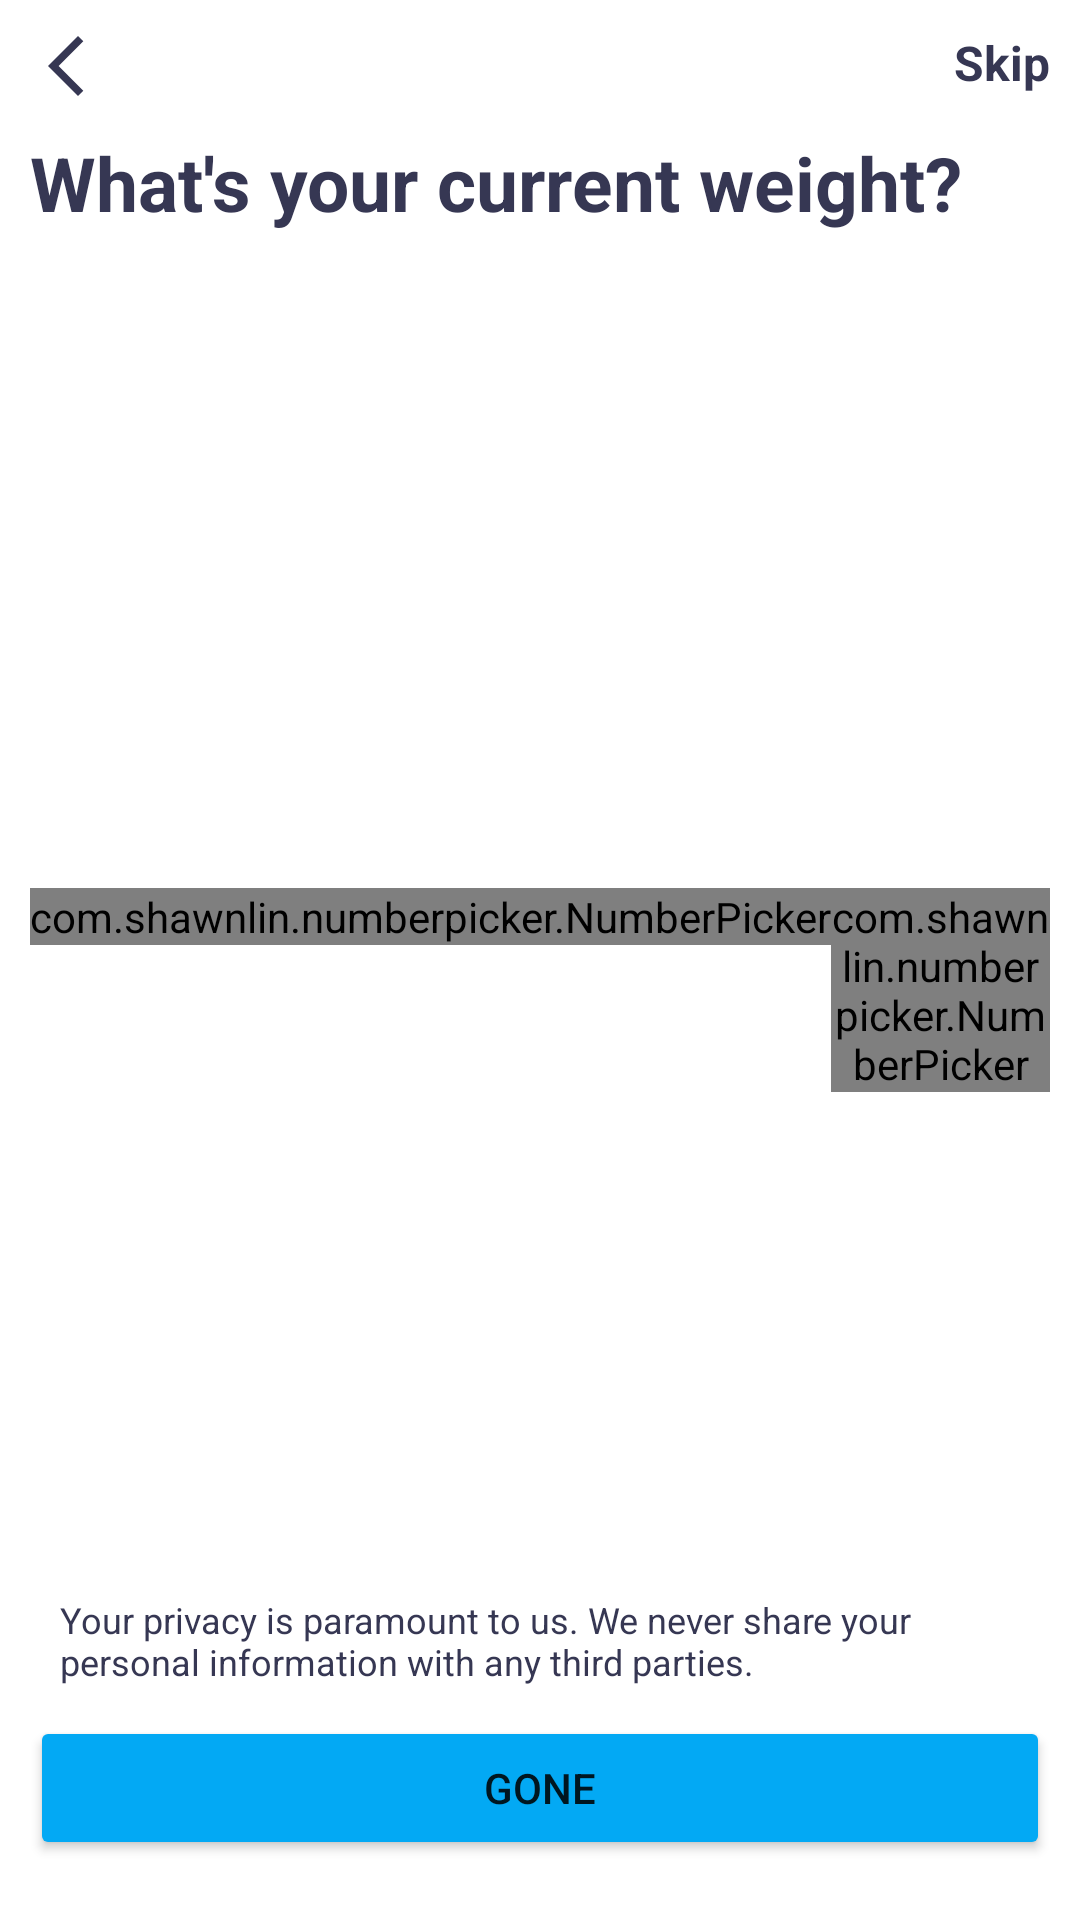

Icon click points for this 1080×1920 phone screenshot, format [x,y]:
arrow back: [65,66]
